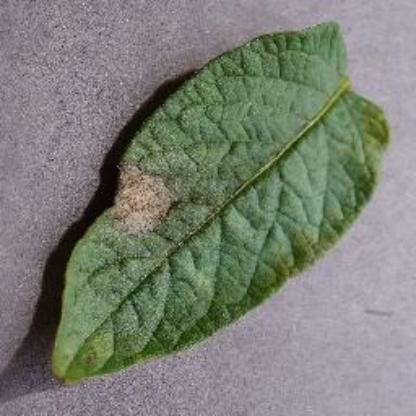Late-Blight: (33, 15, 399, 387)
